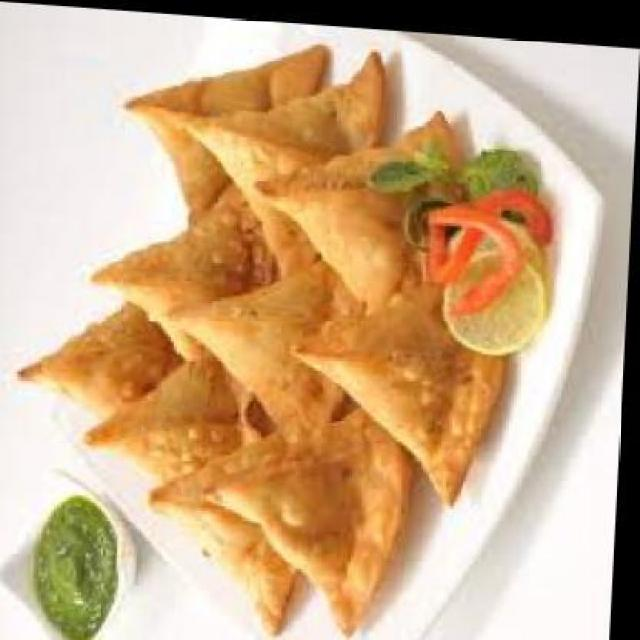samosa: (180, 31, 389, 280), (205, 392, 417, 634), (291, 266, 509, 499), (250, 93, 464, 310), (118, 29, 330, 236), (165, 243, 372, 442), (150, 416, 322, 632), (91, 183, 275, 366), (90, 334, 272, 486), (22, 293, 190, 422)
